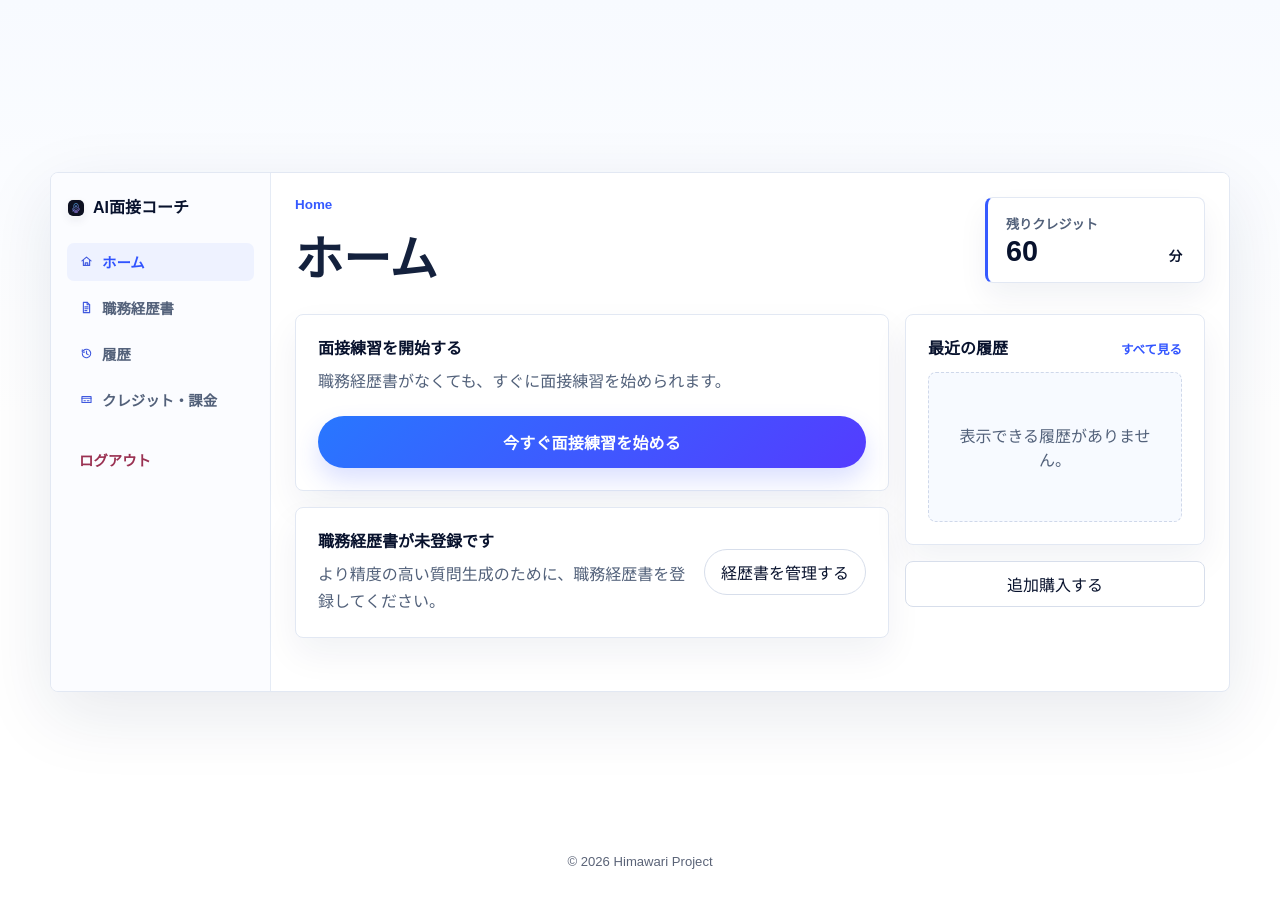
Test: App › refreshes credit balance from the API after checkout succeeds
The width and height of the screenshot is (1280, 900).
Expected: the element named "残クレジット: 60分" is shown, [985, 197, 1205, 283]
Click the button "追加購入する". click: click(1055, 584)
box: [905, 561, 1205, 607]
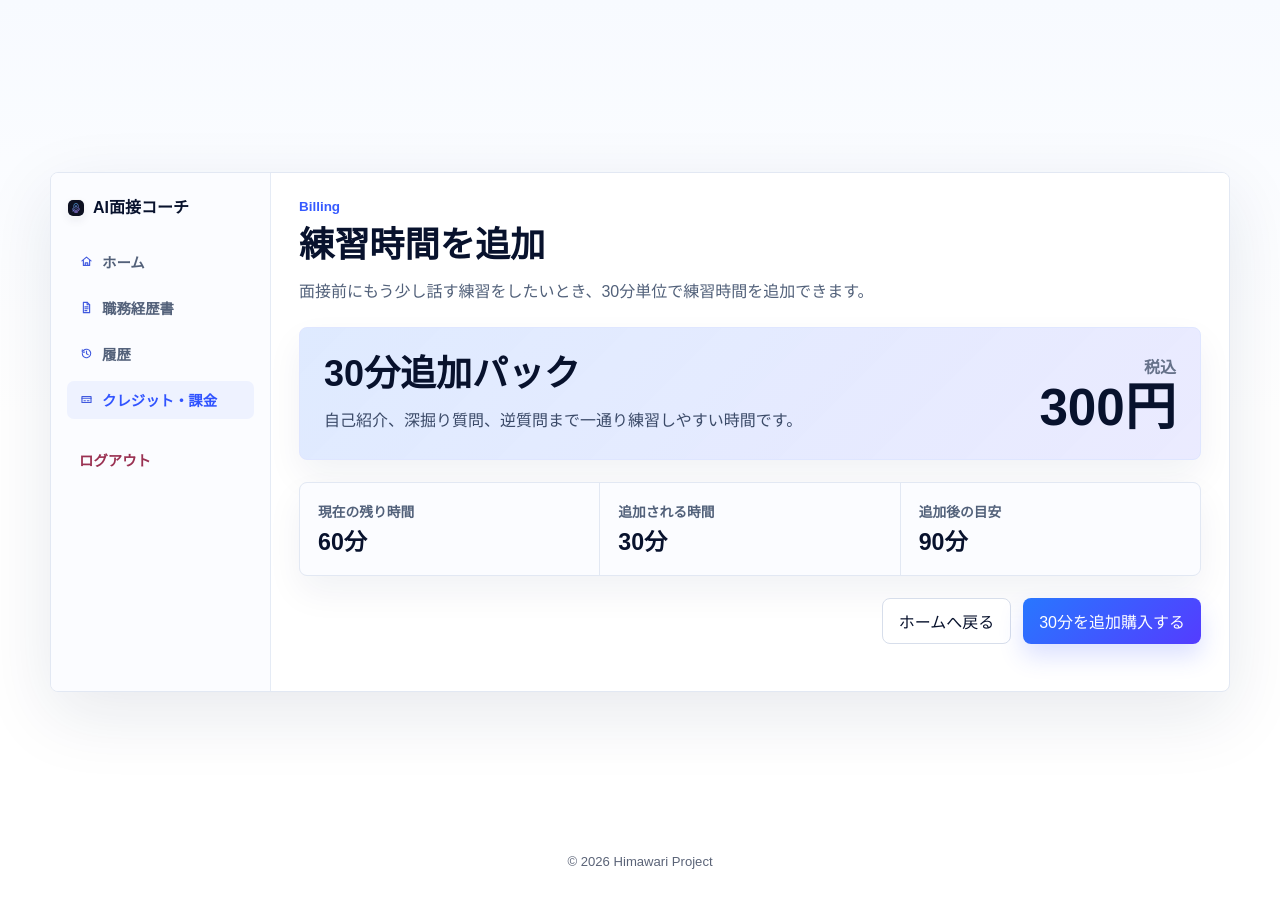
Expected: the heading "30分追加パック" is shown, [324, 353, 580, 394]
